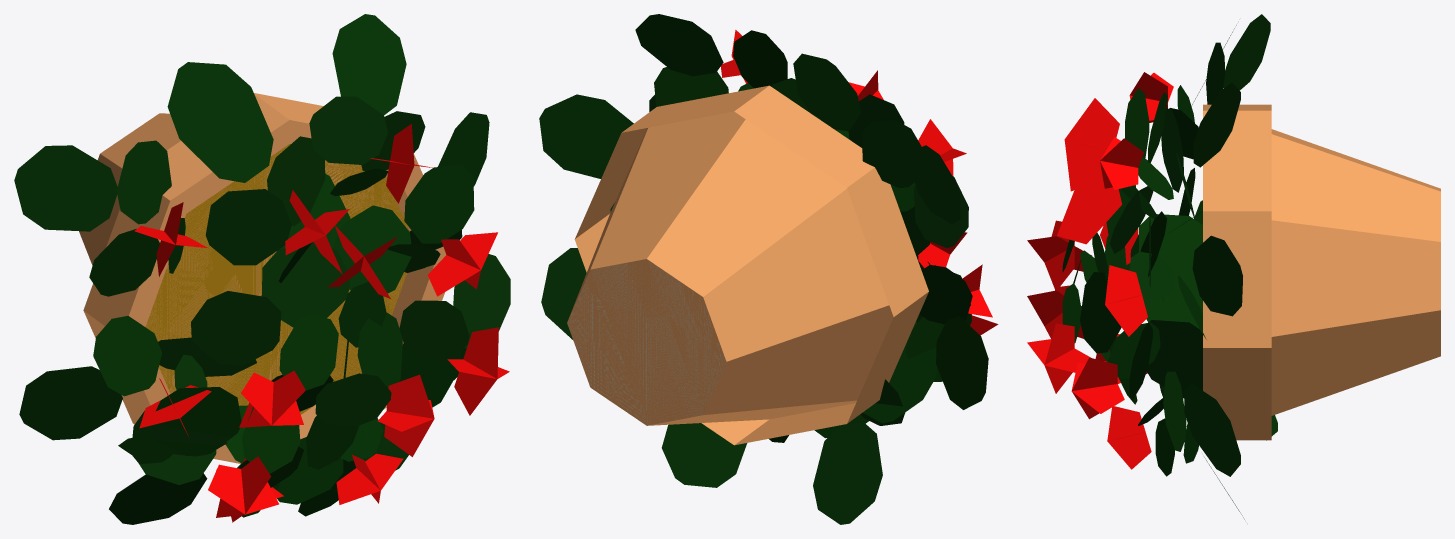
3 renders of one model, left to right at view 1: azimuth 30°, elevation 25°; view 2: azimuth 150°, elevation 25°; view 3: azimuth 270°, elevation 25°, orthographic. The views are drawn at different scales.
Parts seen in each view (by area): view 1: potted plant; view 2: potted plant; view 3: potted plant.
Boxes of the visible parts, <box> form: potted plant: <box>14,14,510,524</box>; potted plant: <box>539,14,998,524</box>; potted plant: <box>1027,14,1440,519</box>.
Size of the model in its own units: 16.75 by 16.57 by 13.92.
